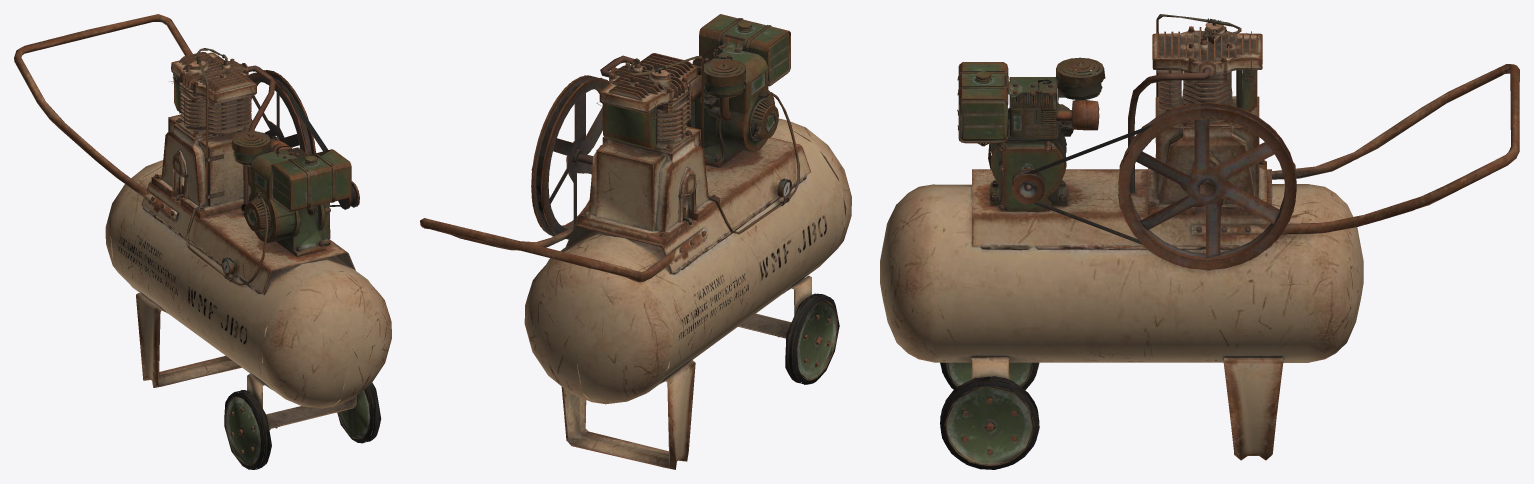
File: kompresor.gltf
3 views of the same model, side by side, from view 1: azimuth 30°, elevation 25°; view 2: azimuth 150°, elevation 25°; view 3: azimuth 270°, elevation 25° (orthographic). The views are drawn at different scales.
Visible parts, largest first — view 1: kompresor; view 2: kompresor; view 3: kompresor.
Boxes of the visible parts, bbox=[...] form: kompresor: bbox=[14, 14, 391, 469]; kompresor: bbox=[420, 14, 851, 469]; kompresor: bbox=[880, 14, 1519, 469].
Size of what is drawn, in the model's own units: 0.5978 by 1.18 by 1.67.
2 materials, 2 textured.
